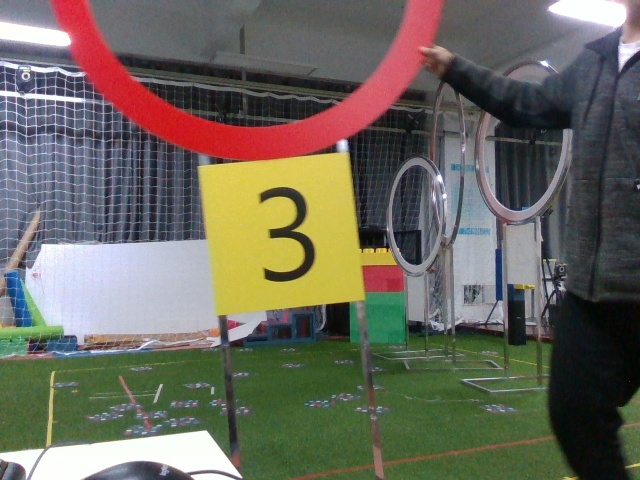target: (207, 157, 353, 302)
